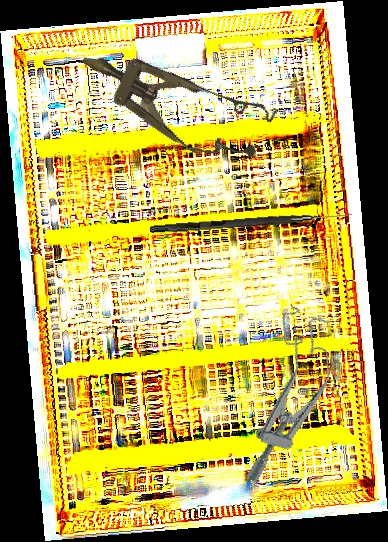Hook Surgical: (149, 208, 353, 236)
Speculum: (67, 25, 280, 178), (234, 302, 346, 494)
